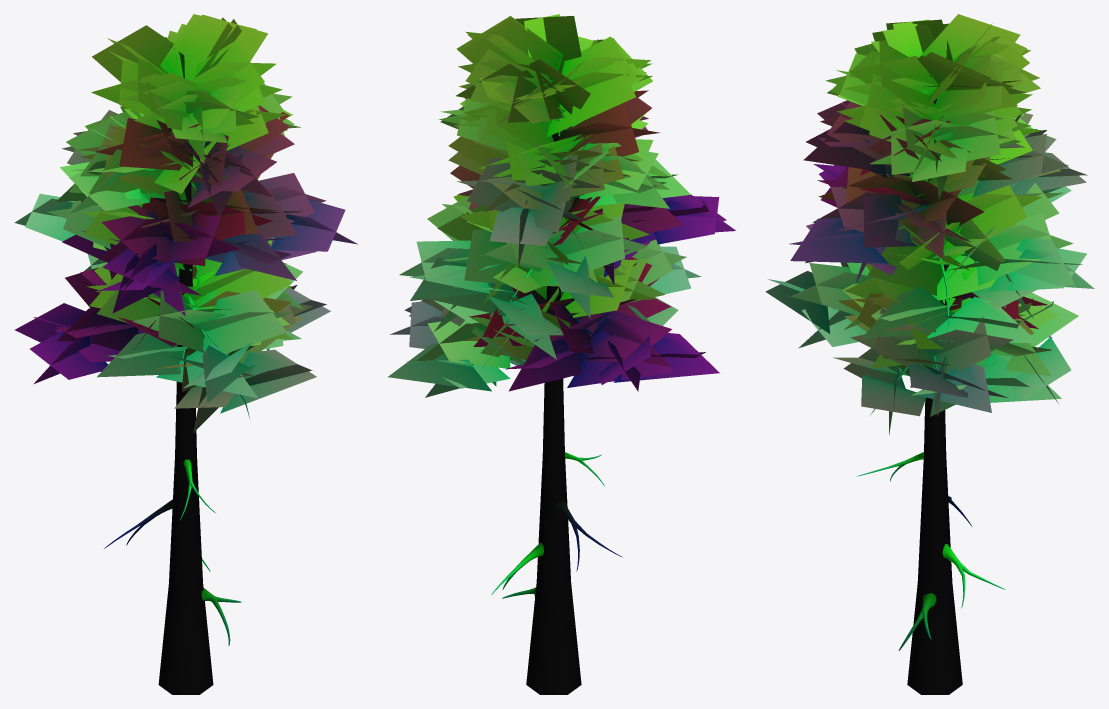
File: M_Pine_1_3.fbx
3 renders of one model, left to right at view 1: azimuth 30°, elevation 25°; view 2: azimuth 150°, elevation 25°; view 3: azimuth 270°, elevation 25°, orthographic.
Parts seen in each view (by area): view 1: Tree_3; view 2: Tree_3; view 3: Tree_3.
Boxes of the visible parts, x1,y1,x2,y2 form: Tree_3: [14, 14, 357, 694]; Tree_3: [387, 14, 735, 694]; Tree_3: [765, 14, 1094, 694].
Bounding box in the file's own units: 1327 × 2691 × 1226.
